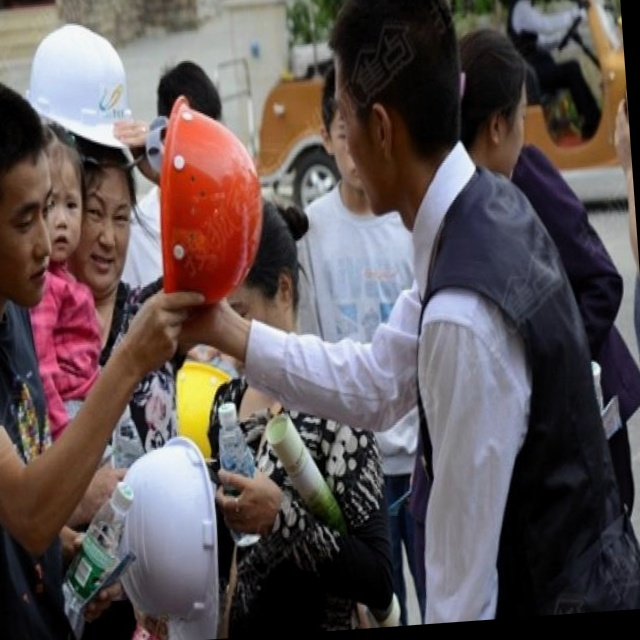Sin_Casco_Mascarrilla: (328, 0, 484, 199), (0, 74, 54, 297)
